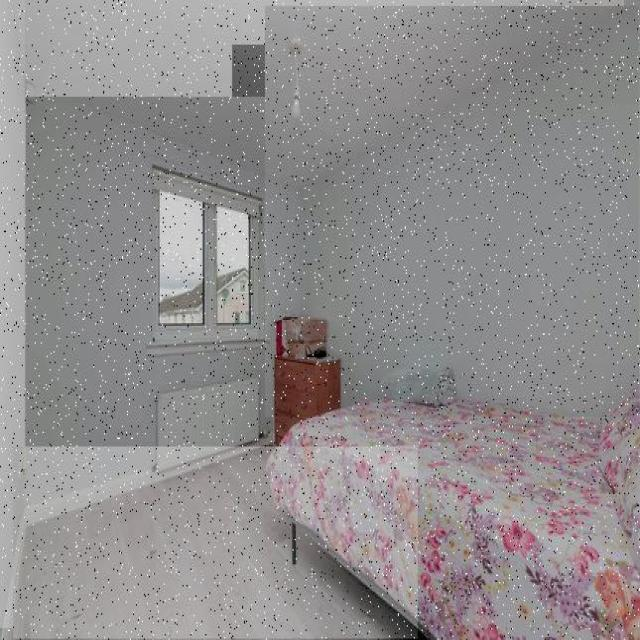Wall: (265, 6, 640, 417), (16, 0, 624, 176), (26, 97, 273, 505), (14, 448, 418, 639), (233, 45, 419, 186), (0, 0, 25, 628)
